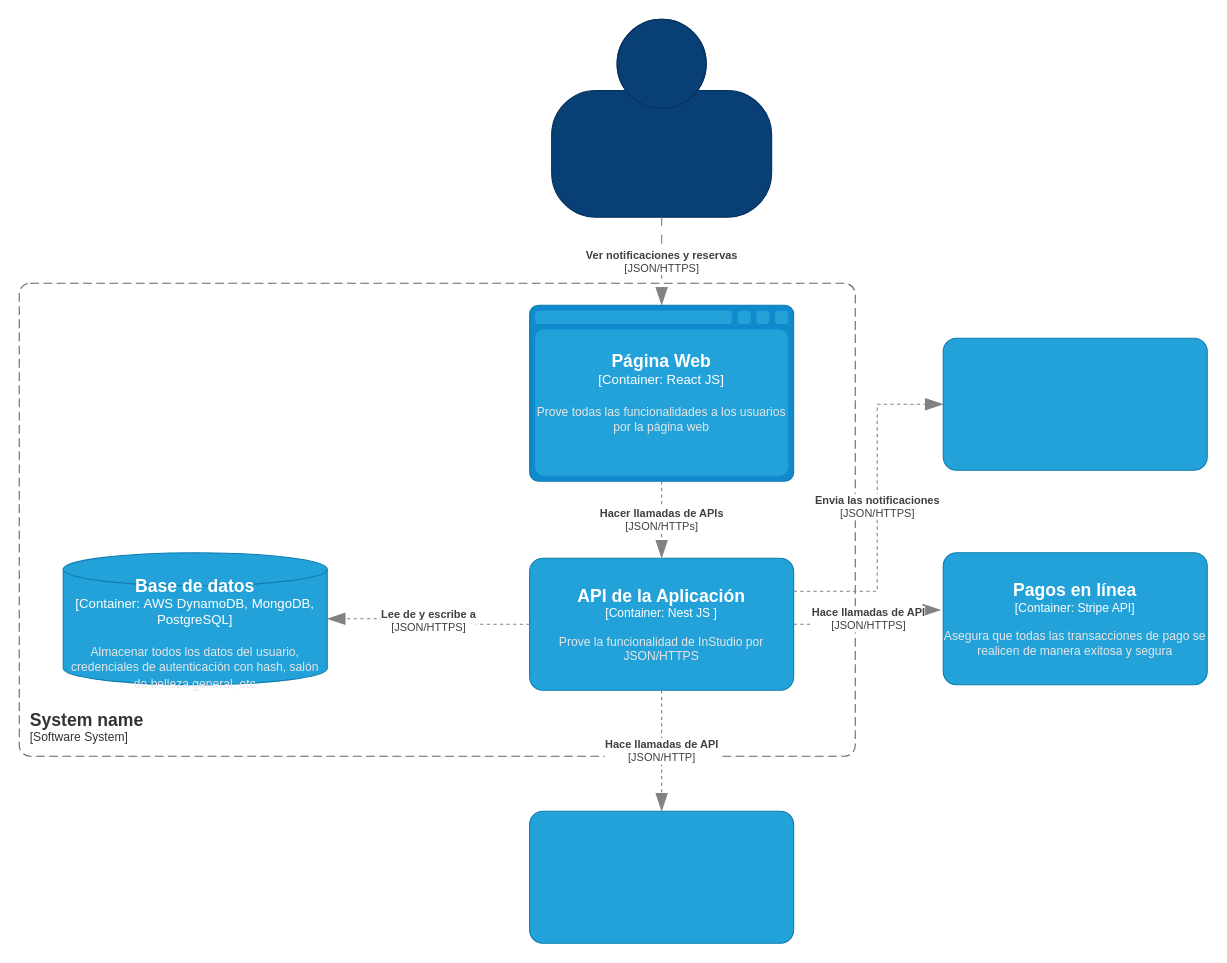
This 1227x963 diagram has some shape labels left out. The shapes that lost their labels are listed below. From the top down, each one's centre as x and y in pixels, then its label:
At point 661,117: "Cliente [Person] Una persona sigue salones de belleza y tiene reservas".
At point 1074,403: "Enviar Notificaciones [Container: AWS SNS] Envia notificaciones".
At point 661,876: "Entregar información [Container: AWS Lambda] Devuelve los datos de analíticas".
